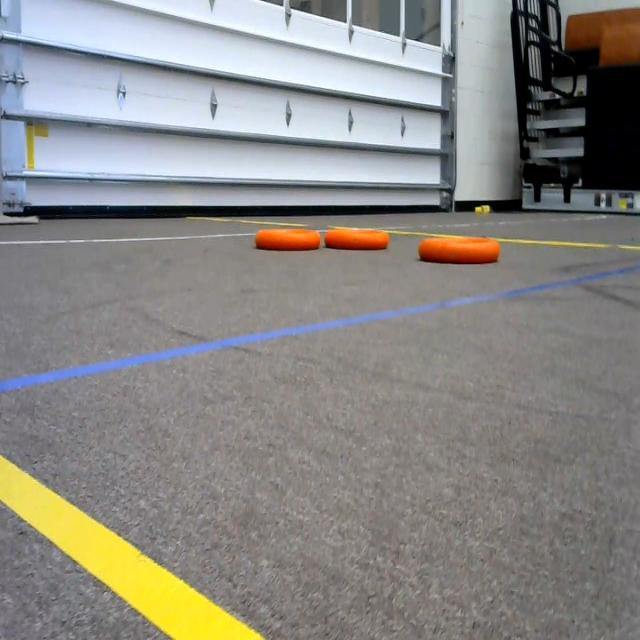note: (416, 225, 510, 272), (253, 219, 323, 262), (322, 216, 393, 257)
